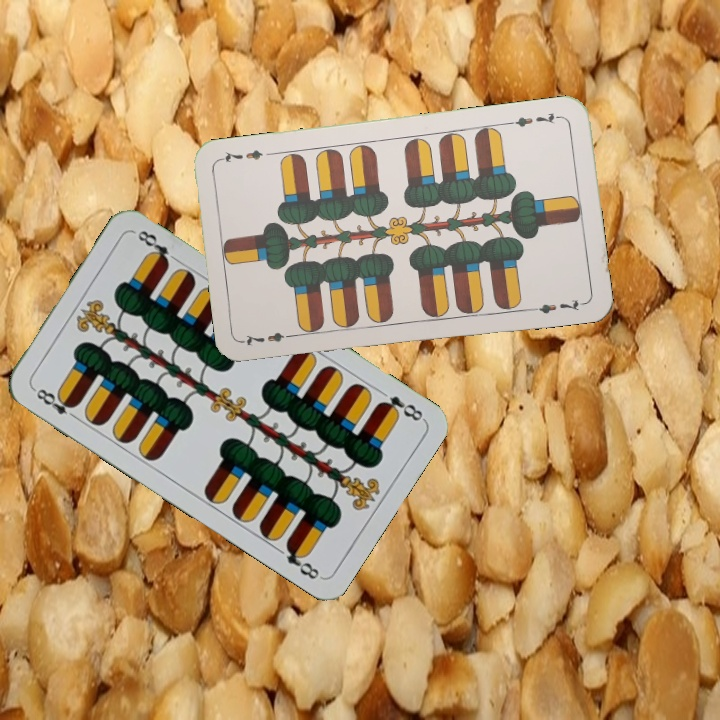E7: (505, 108, 564, 130), (240, 328, 299, 348)
E8: (29, 382, 81, 422), (374, 391, 426, 424)
